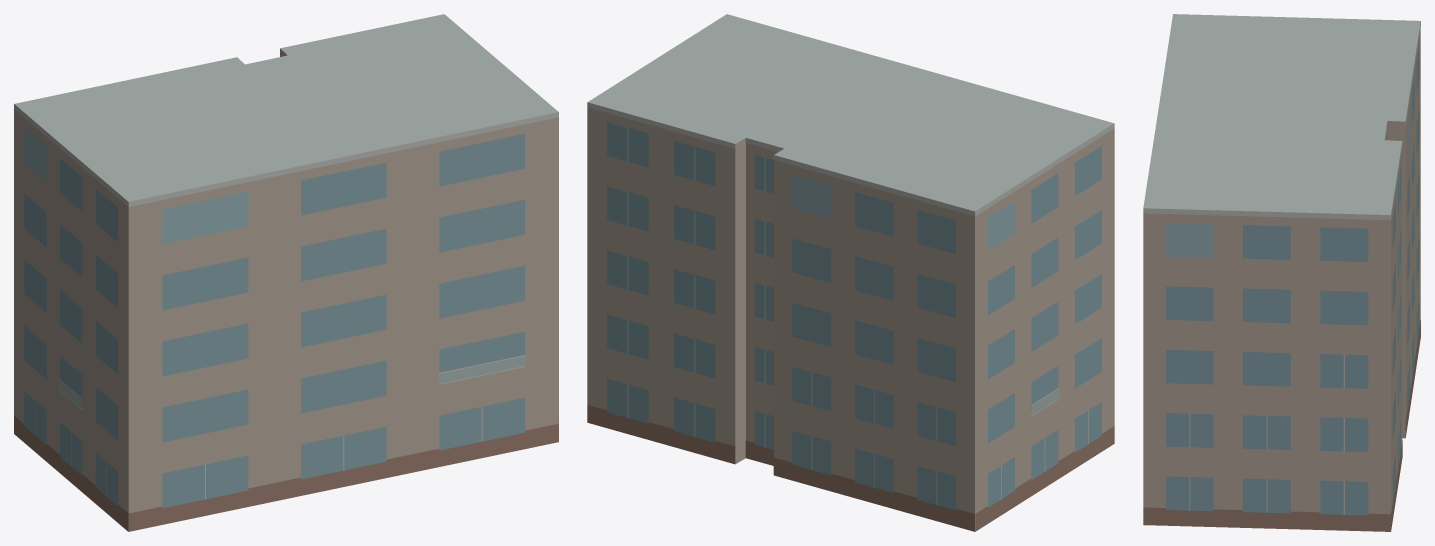
File: survey-upis-32625845.glb
3 views of the same model, side by side, from view 1: azimuth 30°, elevation 25°; view 2: azimuth 150°, elevation 25°; view 3: azimuth 270°, elevation 25° (orthographic). The views are drawn at different scales.
Parts seen in each view (by area): view 1: survey-upis-32625845.tmp; view 2: survey-upis-32625845.tmp; view 3: survey-upis-32625845.tmp.
Boxes of the visible parts, x1,y1,x2,y2 form: survey-upis-32625845.tmp: (14,14,558,531); survey-upis-32625845.tmp: (587,14,1114,531); survey-upis-32625845.tmp: (1143,14,1420,531).
Bounding box in the file's own units: 20.78 × 15.25 × 12.12.
